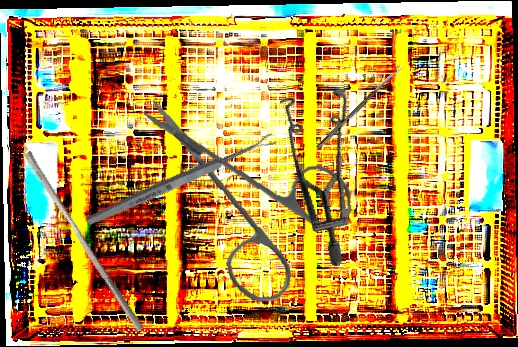Iris Scissors: (143, 88, 356, 309)
Pusher: (16, 150, 152, 333)
Speculum: (227, 65, 409, 268)
Surgical Spoon: (84, 132, 278, 228), (315, 65, 404, 150)
